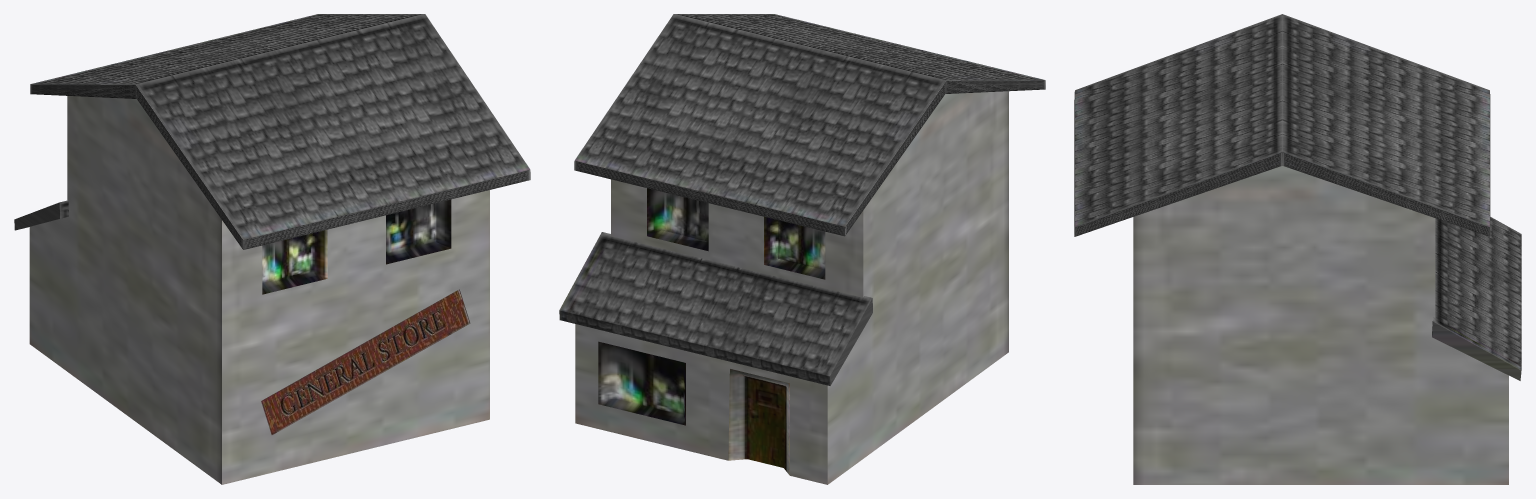
Rendered from casa2.obj.
The picture shows the model from 3 angles, left to right: view 1: azimuth 30°, elevation 25°; view 2: azimuth 150°, elevation 25°; view 3: azimuth 270°, elevation 25°; orthographic projection. The views are drawn at different scales.
Visible parts, largest first — view 1: Telhado Superior, Lados, Paredes, Faixa, Janela 2, Janela 1, Telhado Inferior; view 2: Telhado Superior, Lados, Telhado Inferior, Paredes, Janela de Baixo, Porta, Janela 3, Janela 4; view 3: Lados, Telhado Superior, Telhado Inferior.
Part boxes in pixels (bbox=[...]): Telhado Superior: bbox=[30, 14, 530, 249]; Lados: bbox=[29, 96, 221, 484]; Paredes: bbox=[222, 190, 489, 484]; Faixa: bbox=[261, 289, 470, 434]; Janela 2: bbox=[262, 229, 327, 294]; Janela 1: bbox=[386, 199, 451, 264]; Telhado Inferior: bbox=[14, 200, 68, 230]; Telhado Superior: bbox=[574, 14, 1045, 236]; Lados: bbox=[827, 91, 1008, 484]; Telhado Inferior: bbox=[559, 232, 872, 385]; Paredes: bbox=[575, 179, 863, 484]; Janela de Baixo: bbox=[598, 341, 685, 425]; Porta: bbox=[728, 369, 789, 475]; Janela 3: bbox=[647, 188, 708, 251]; Janela 4: bbox=[764, 216, 825, 279]; Lados: bbox=[1133, 157, 1508, 484]; Telhado Superior: bbox=[1074, 14, 1490, 236]; Telhado Inferior: bbox=[1432, 217, 1521, 380].
Bounding box in the file's own units: 43.25 × 49.5 × 59.23.
1 material, 1 textured.
